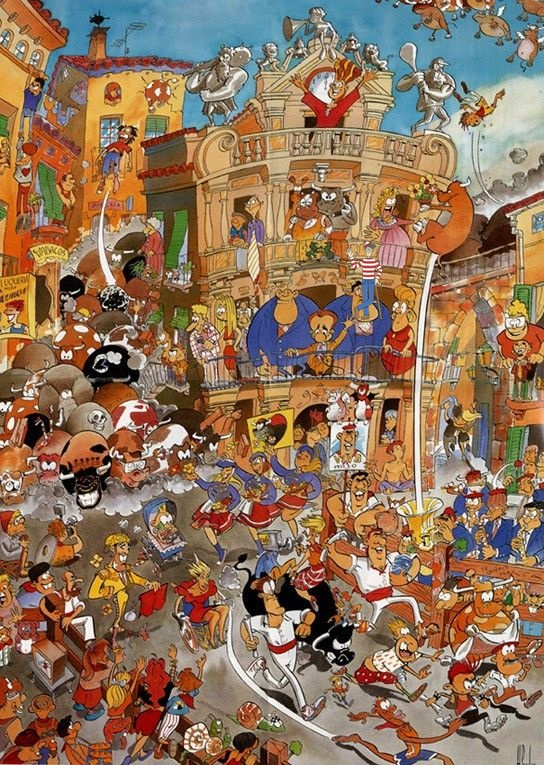waldo: (345, 240, 383, 320)
